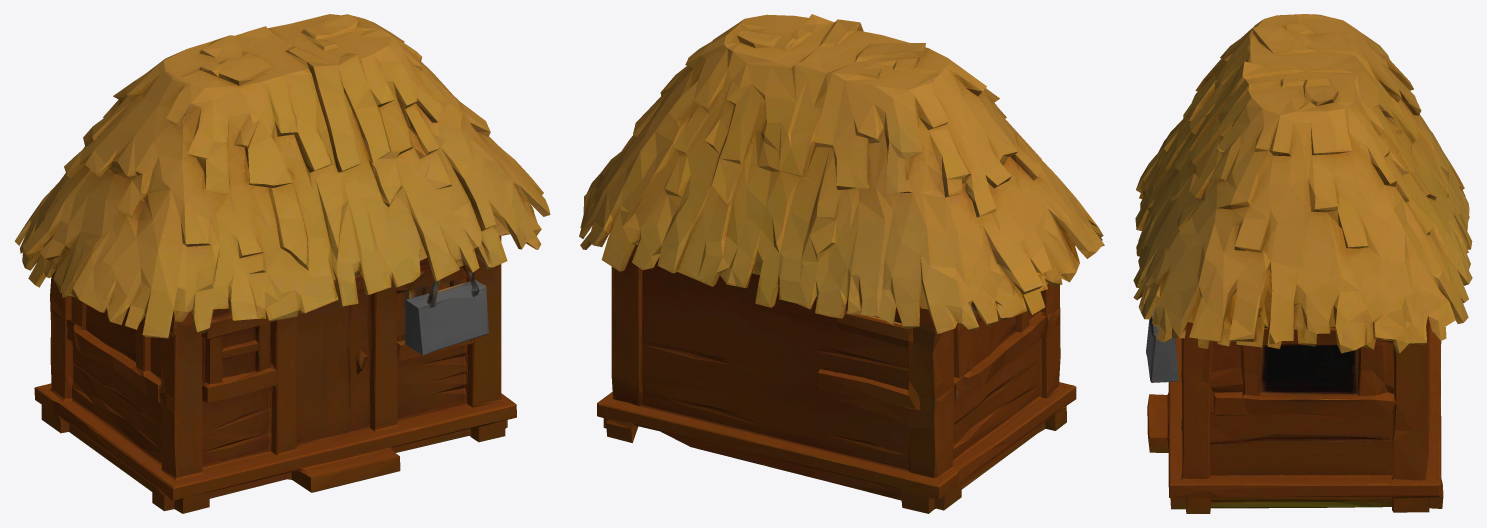
Rendered from thatch_hut.glb.
3 views of the same model, side by side, from view 1: azimuth 30°, elevation 25°; view 2: azimuth 150°, elevation 25°; view 3: azimuth 270°, elevation 25° (orthographic).
Size of the model in its own units: 1.97 by 1.57 by 1.28.
Materials: 1 (1 with a texture image).
